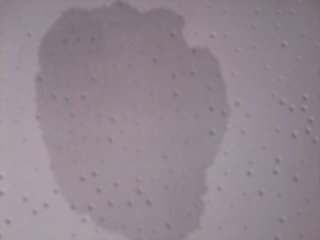Water_detected: (60, 38, 195, 203)
